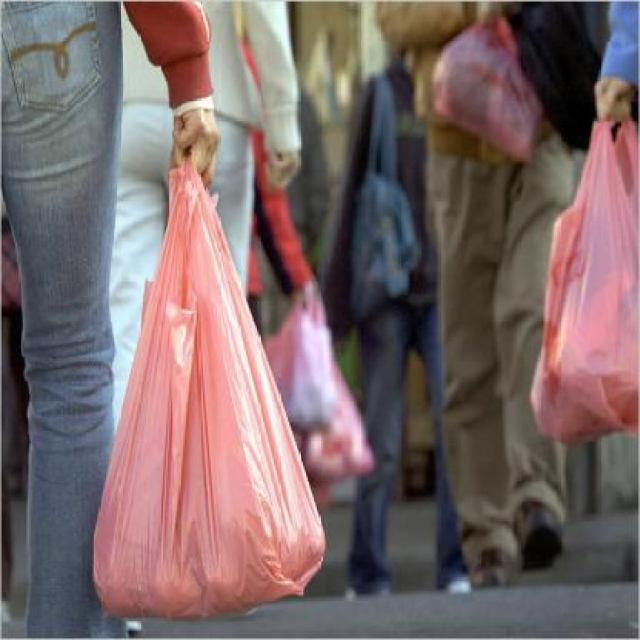plastic bag: (94, 151, 331, 613), (531, 114, 640, 484), (436, 26, 538, 185)
